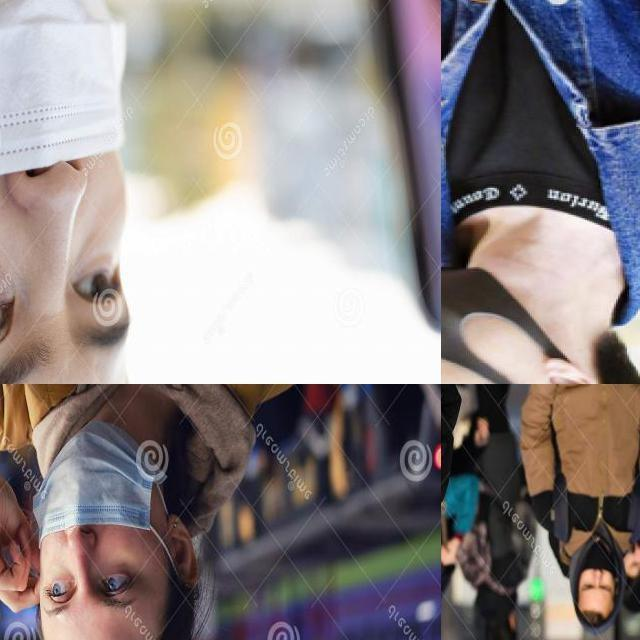hairnet: (0, 0, 127, 264), (37, 430, 162, 567), (582, 534, 614, 586)
